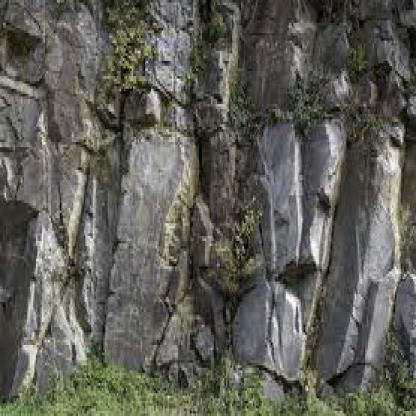Metamorphic_Quartize: (100, 116, 204, 400), (317, 132, 404, 370), (290, 124, 343, 279), (235, 292, 307, 378), (390, 253, 415, 387)
